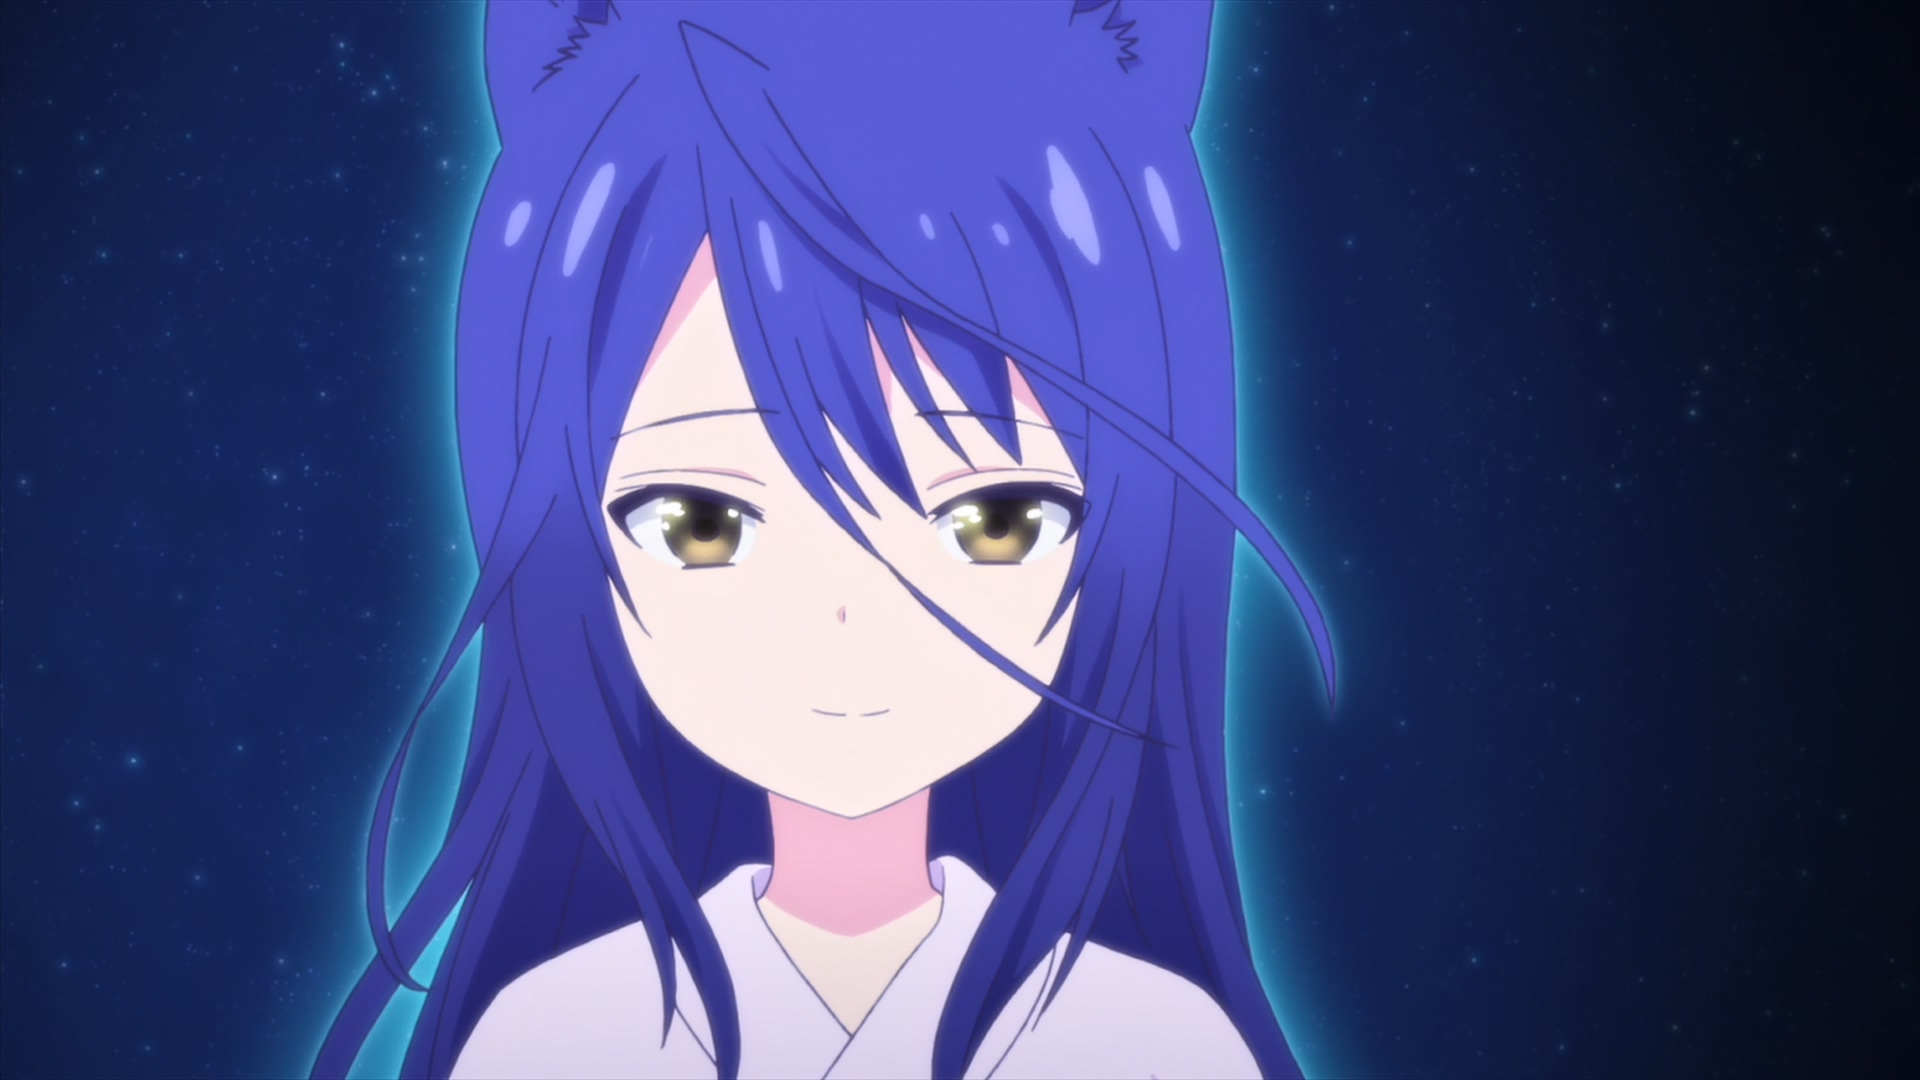皋: (309, 1, 1336, 1080)
